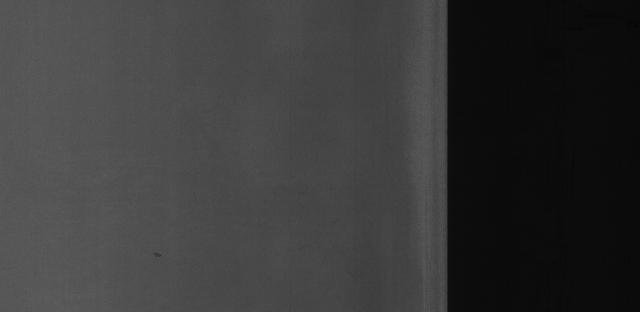inclusion: (143, 245, 173, 268)
